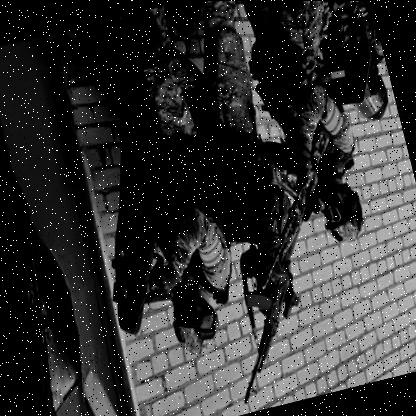rifle: (220, 108, 363, 289), (207, 245, 322, 405), (131, 262, 180, 311)
